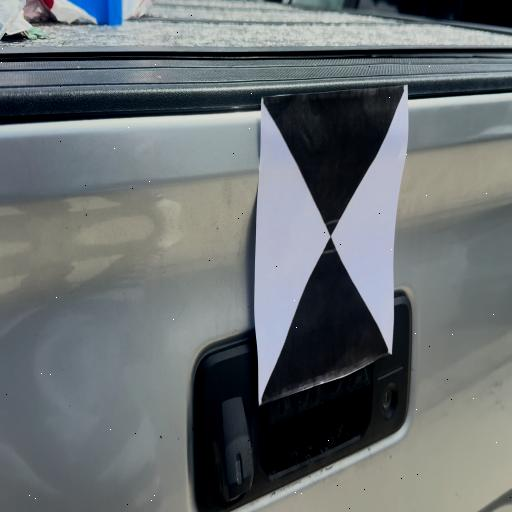target: (258, 89, 403, 398)
